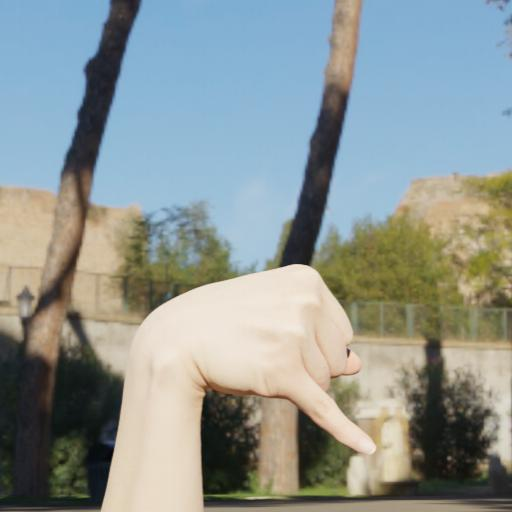J: (132, 254, 428, 512)
